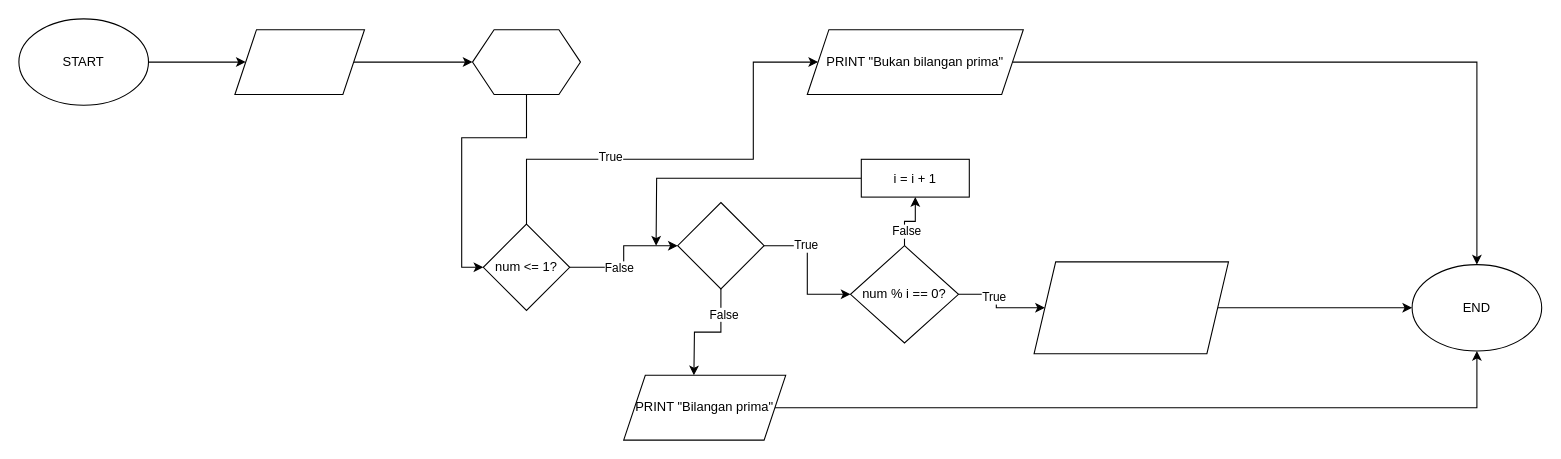
Image size: 1561x459. Some labels were removed from this diagram. Here are the shapes that lost their labels. From the top down, the centre of each, then its label:
point (299, 61): INPUT num
point (525, 61): i = 2
point (720, 245): i < num ?
point (1130, 307): PRINT "Bukan bil prima"
